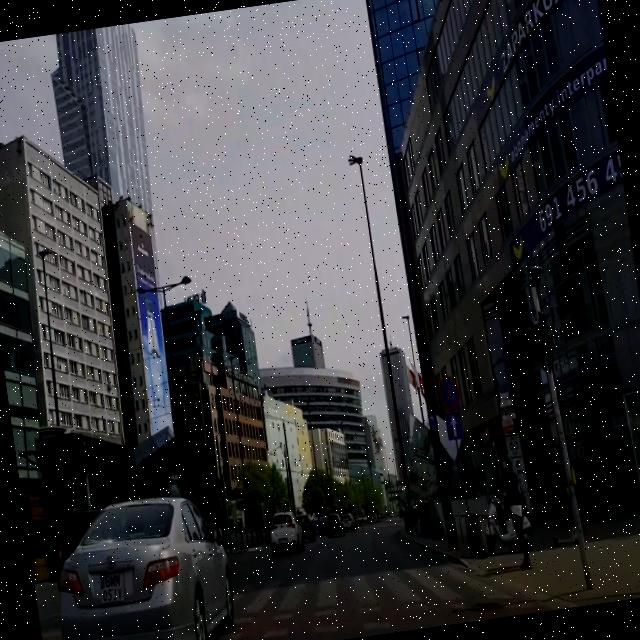Zakaz zatrzymywania sie: (437, 372, 462, 412)
